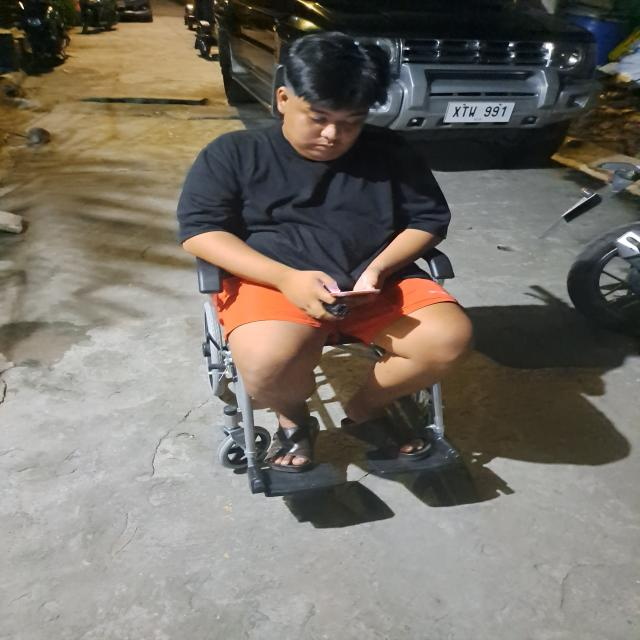wheelchairs: (177, 168, 498, 506)
